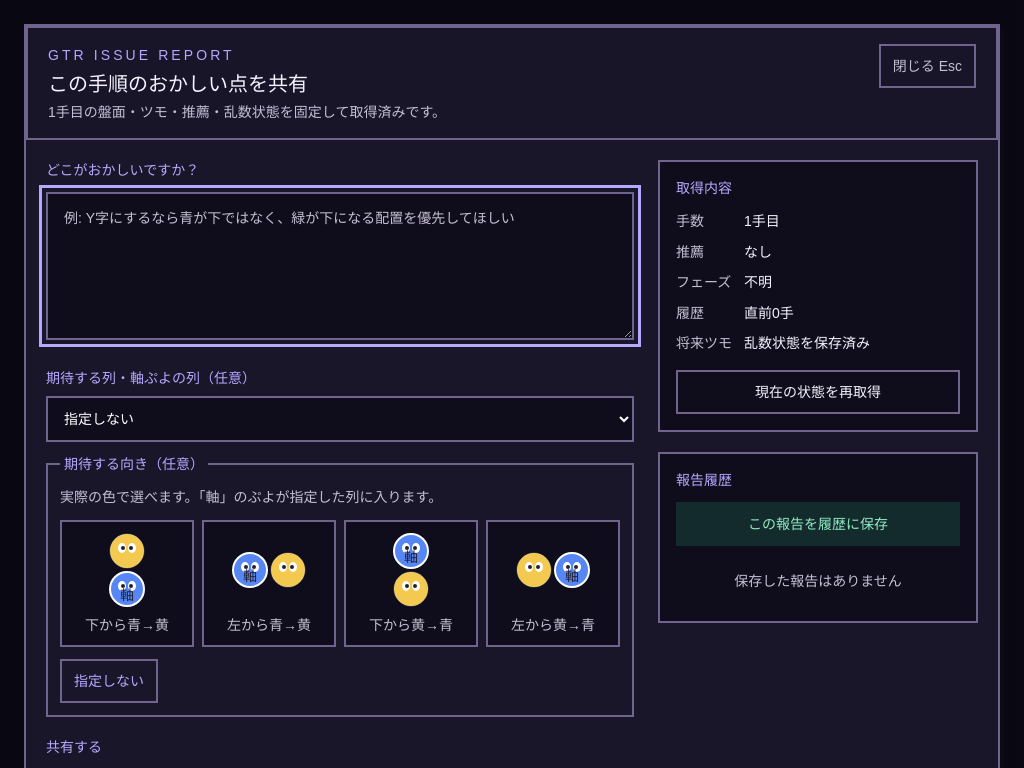
Test: keeps a working Codex report with current feedback in cloud-connected development
This screenshot has width=1024, height=768.
Type "この配置を確認してください" into the text box. click: [340, 266]
box: [46,192,634,340]
(page scrolled)
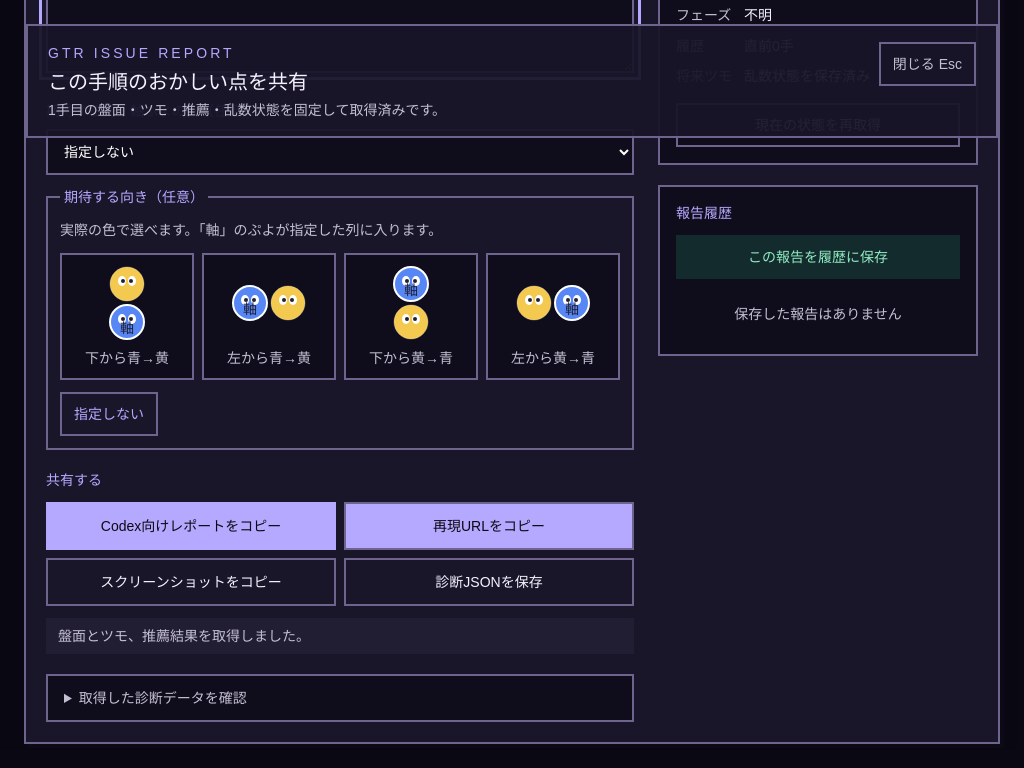
Click the button "Codex向けレポートをコピー". click: [191, 526]
box: [46,502,336,550]
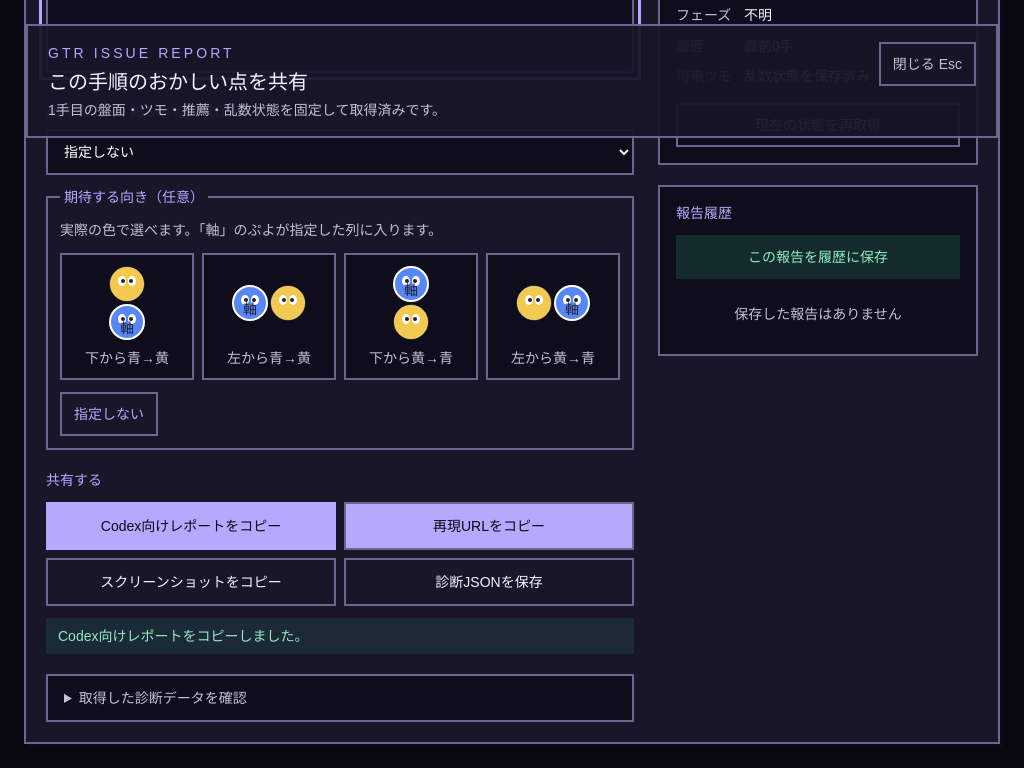
Check: the message reads "Codex向けレポートをコピーしました。", box [58,628,308,644]
